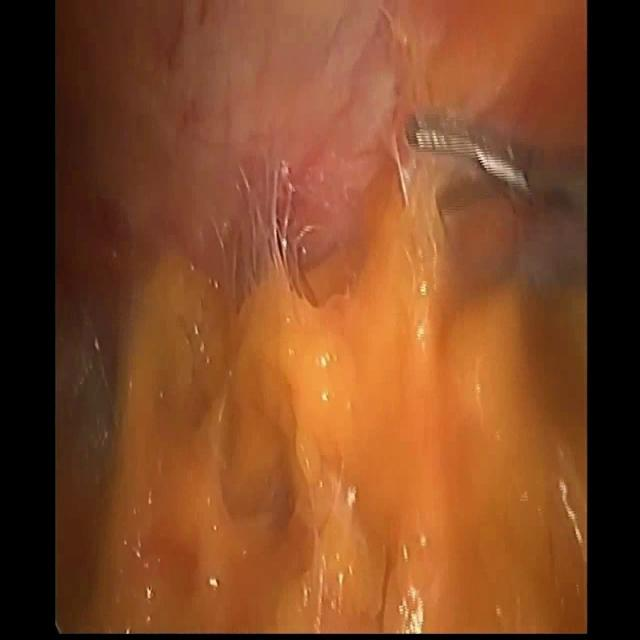surgical-area: (56, 0, 588, 633)
surgical-tool: (405, 108, 588, 290)
